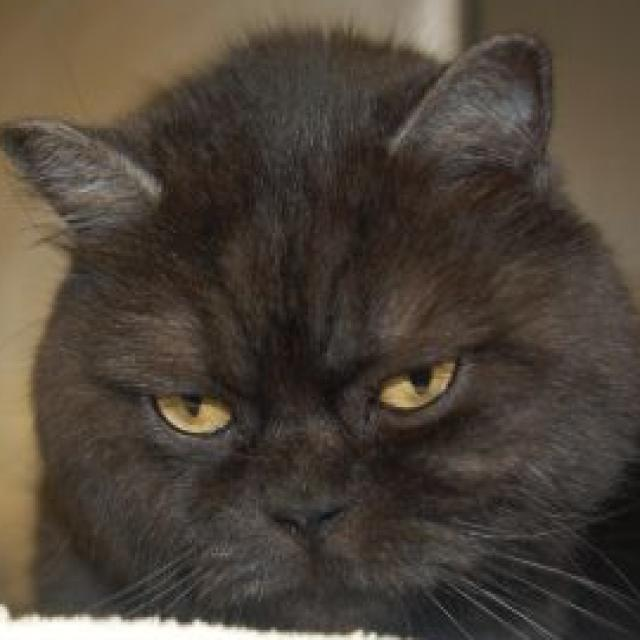British Shorthair: (0, 15, 640, 640)
